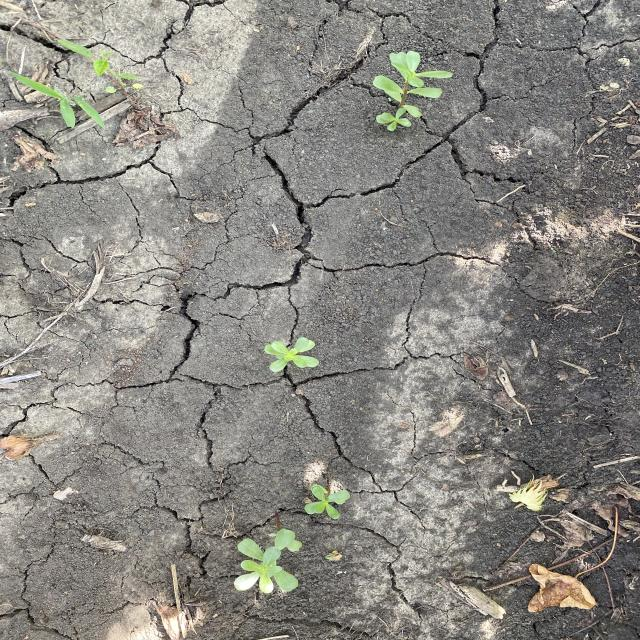Purslane: (369, 48, 456, 132), (231, 528, 305, 598), (262, 334, 322, 375), (303, 483, 352, 522)
